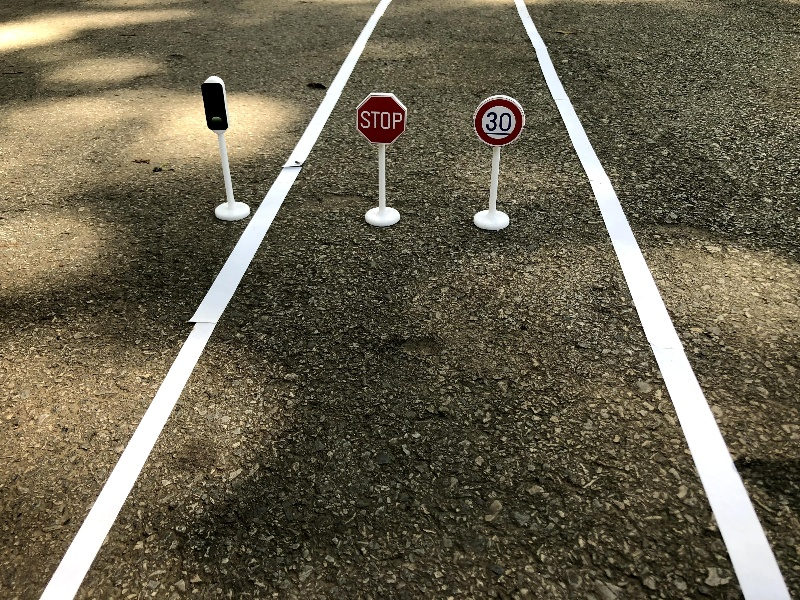Bien_bao_30: (460, 90, 533, 240)
Den_Xanh: (184, 70, 273, 226)
Stop: (336, 84, 426, 234)
